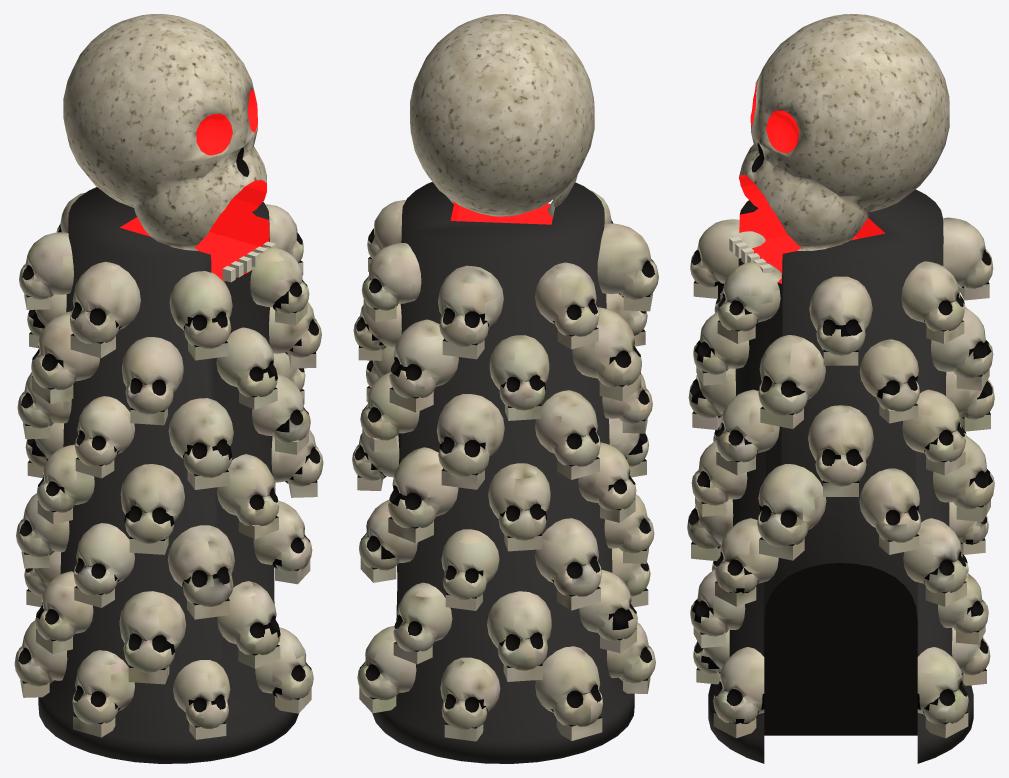
Rendered from skull-pile.glb.
3 renders of one model, left to right at view 1: azimuth 30°, elevation 25°; view 2: azimuth 150°, elevation 25°; view 3: azimuth 270°, elevation 25°, orthographic.
Parts seen in each view (by area): view 1: skulls, core, big-skull, teeth.001; view 2: skulls, core, big-skull; view 3: skulls, core, big-skull, teeth.001.
Boxes of the visible parts, x1,y1,x2,y2 form: skulls: [14, 192, 323, 739]; core: [38, 187, 298, 763]; big-skull: [63, 14, 266, 260]; teeth.001: [222, 241, 275, 282]; skulls: [352, 190, 658, 741]; core: [372, 182, 634, 763]; big-skull: [410, 14, 594, 224]; skulls: [687, 217, 994, 738]; core: [708, 189, 973, 763]; big-skull: [739, 14, 949, 272]; teeth.001: [729, 236, 772, 273].
Size of the model in its own units: 6.13 by 15 by 6.02.
8 materials, 2 textured.
